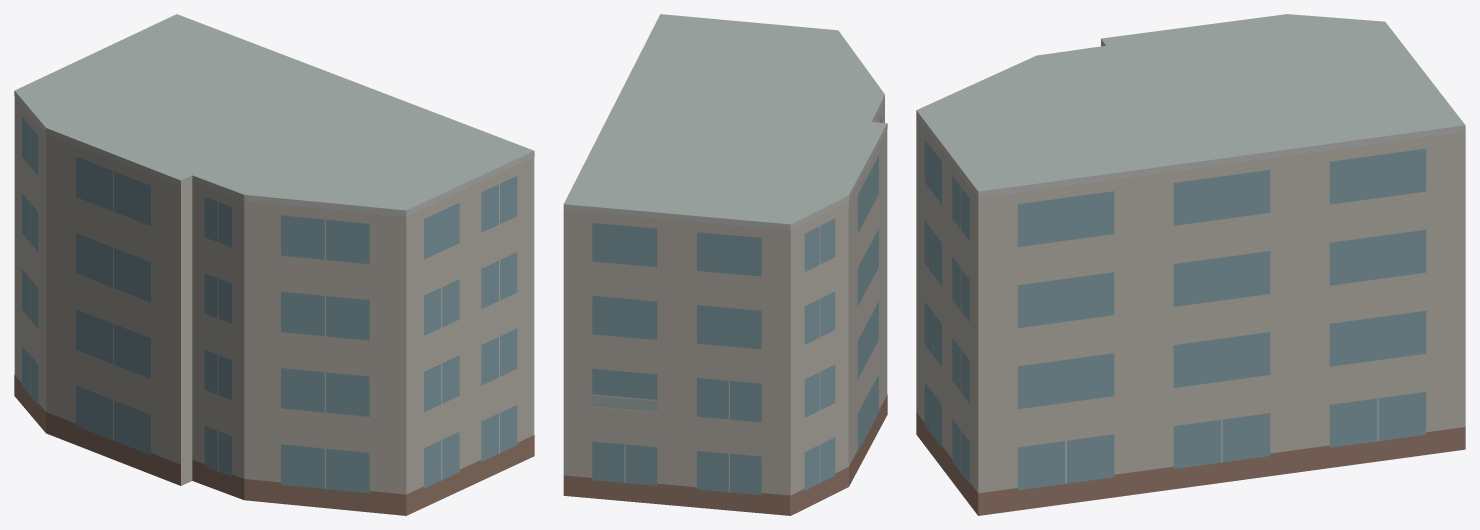
The model's file is survey-upis-32956508.glb.
The picture shows the model from 3 angles, left to right: view 1: azimuth 30°, elevation 25°; view 2: azimuth 150°, elevation 25°; view 3: azimuth 270°, elevation 25°; orthographic projection. The views are drawn at different scales.
Visible parts, largest first — view 1: survey-upis-32956508.tmp; view 2: survey-upis-32956508.tmp; view 3: survey-upis-32956508.tmp.
Boxes of the visible parts, box(x1,y1,x2,y2) form: survey-upis-32956508.tmp: box(14, 14, 534, 515); survey-upis-32956508.tmp: box(563, 14, 887, 515); survey-upis-32956508.tmp: box(916, 14, 1465, 515).
Bounding box in the file's own units: 14.34 × 12.2 × 18.74.
